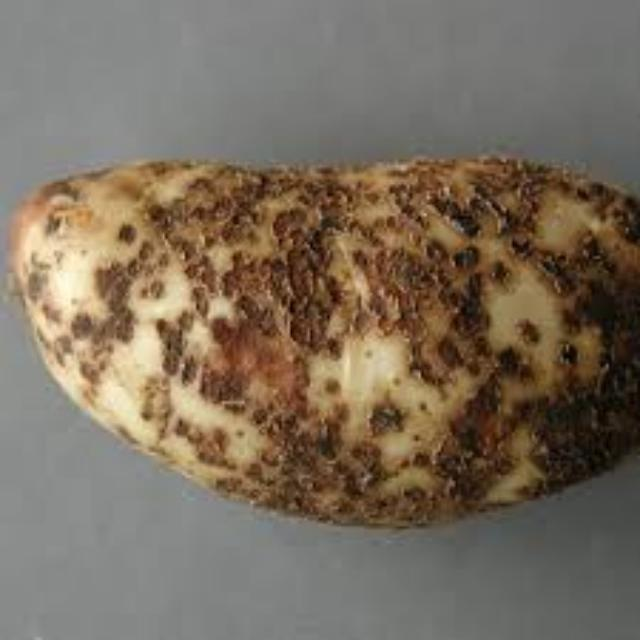Diseased-fungal potato: (15, 121, 640, 547)
